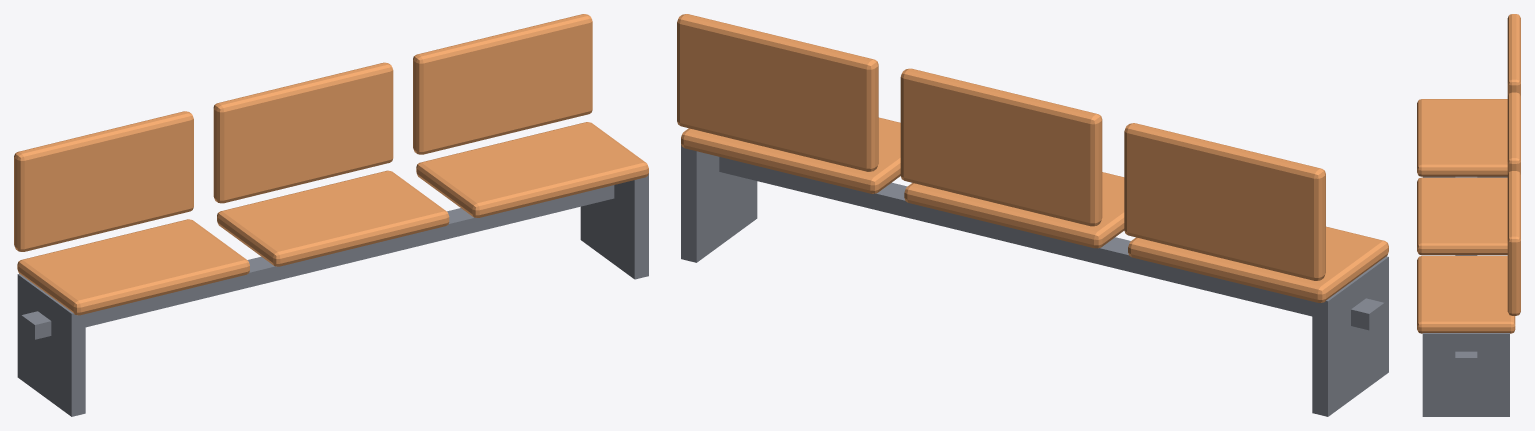
File: int_kursiTunggu.fbx
3 views of the same model, side by side, from view 1: azimuth 30°, elevation 25°; view 2: azimuth 150°, elevation 25°; view 3: azimuth 270°, elevation 25° (orthographic). The views are drawn at different scales.
Parts seen in each view (by area): view 1: int_kursiTunggu; view 2: int_kursiTunggu; view 3: int_kursiTunggu.
Part boxes in pixels (x1,y1,x2,y2): int_kursiTunggu: (14,14,648,416); int_kursiTunggu: (677,14,1388,416); int_kursiTunggu: (1417,14,1520,416).
Size of the model in its own units: 260 by 90 by 47.5.
Materials: 1 (1 with a texture image).
